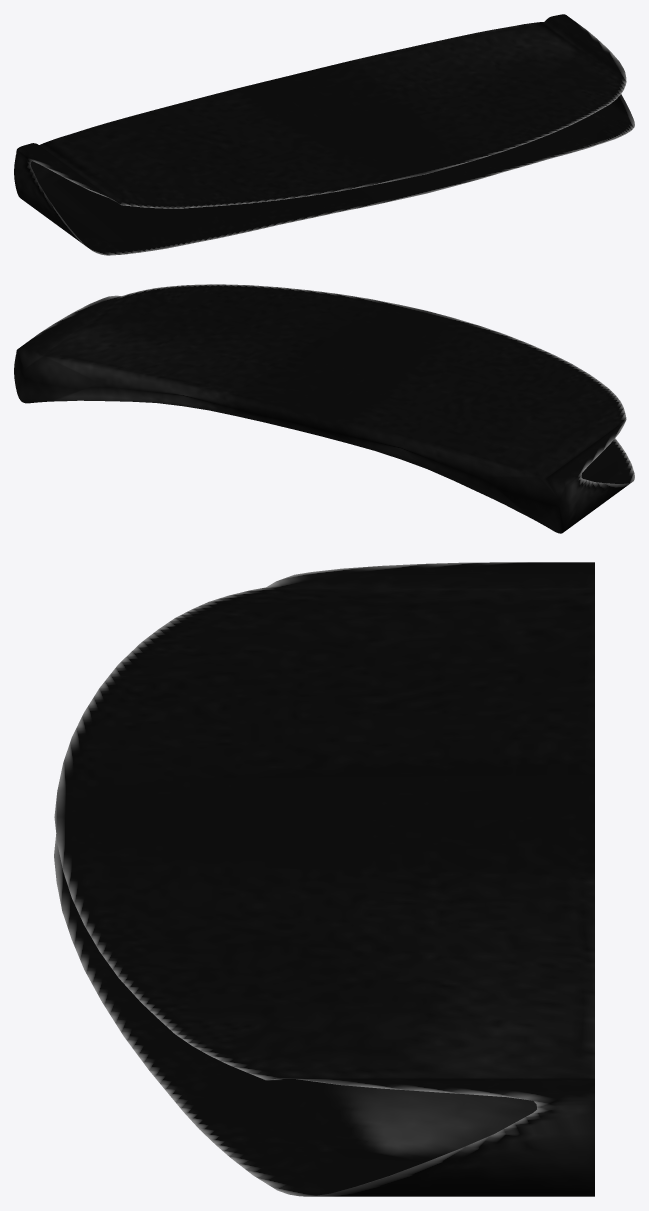
File: TL_housing.glb
3 views of the same model, one above another, from view 1: azimuth 30°, elevation 25°; view 2: azimuth 150°, elevation 25°; view 3: azimuth 270°, elevation 25° (orthographic). The views are drawn at different scales.
Visible parts, largest first — view 1: TL_housing; view 2: TL_housing; view 3: TL_housing.
Boxes of the visible parts, x1=… form: TL_housing: x1=14, y1=14, x2=634, y2=255; TL_housing: x1=14, y1=284, x2=634, y2=533; TL_housing: x1=54, y1=562, x2=594, y2=1196.
Bounding box in the file's own units: 1.51 × 0.152 × 0.6356.
Materials: 1 (1 with a texture image).
